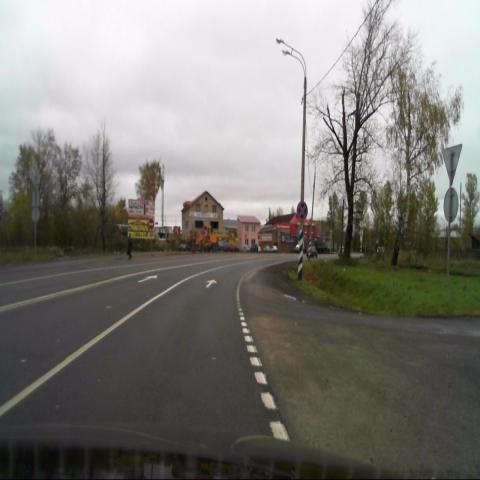3_27: (296, 200, 307, 220)
